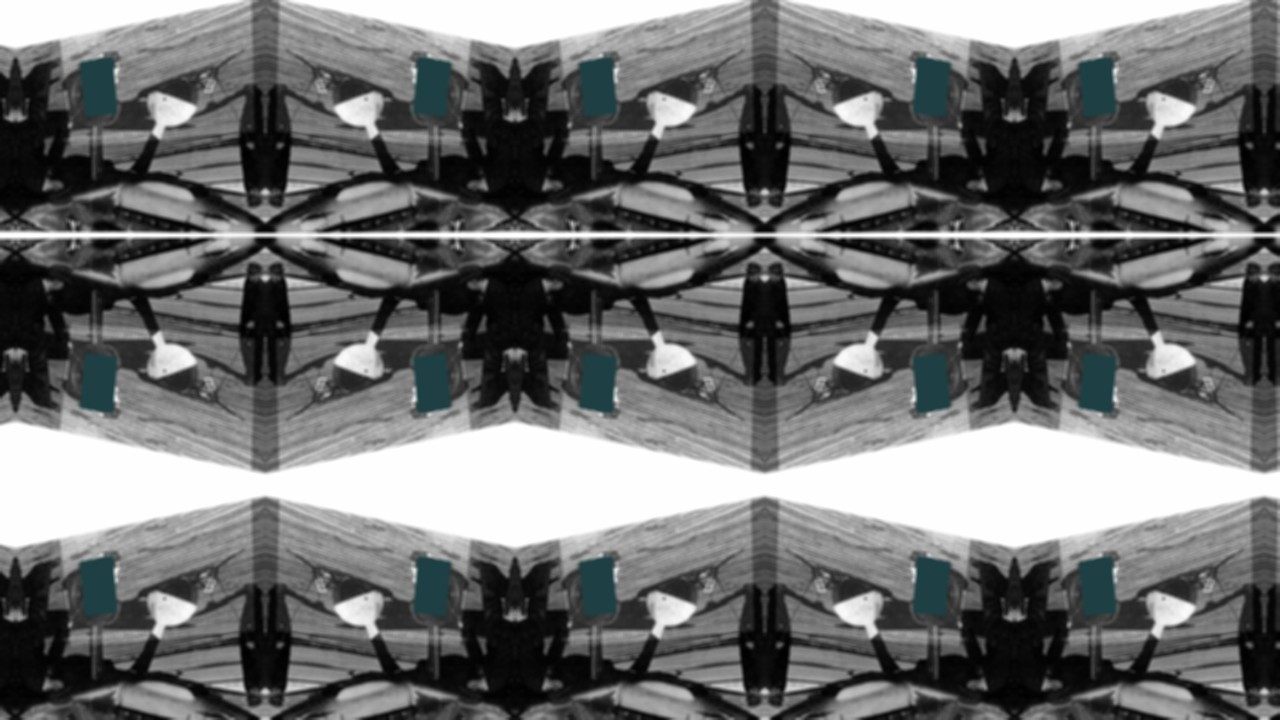chock: (76, 47, 122, 90), (408, 47, 454, 90), (576, 47, 622, 90), (908, 47, 954, 90), (1076, 47, 1122, 90), (76, 380, 122, 423), (408, 380, 454, 423), (576, 380, 622, 423), (908, 380, 954, 423), (1076, 380, 1122, 423), (76, 547, 122, 590), (408, 547, 454, 590), (576, 547, 622, 590), (908, 547, 954, 590), (1076, 547, 1122, 590), (180, 62, 223, 99), (307, 62, 350, 99), (680, 62, 723, 99), (807, 62, 850, 99), (1180, 62, 1223, 99), (180, 371, 223, 408), (307, 371, 350, 408), (680, 371, 723, 408), (807, 371, 850, 408), (1180, 371, 1223, 408), (180, 562, 223, 599), (307, 562, 350, 599), (680, 562, 723, 599), (807, 562, 850, 599), (1180, 562, 1223, 599)
wheel: (61, 62, 124, 130), (406, 62, 469, 130), (561, 62, 624, 130), (906, 62, 969, 130), (1061, 62, 1124, 130), (61, 340, 124, 408), (406, 340, 469, 408), (561, 340, 624, 408), (906, 340, 969, 408), (1061, 340, 1124, 408), (61, 562, 124, 630), (406, 562, 469, 630), (561, 562, 624, 630), (906, 562, 969, 630), (1061, 562, 1124, 630), (145, 75, 204, 132), (326, 75, 385, 132), (645, 75, 704, 132), (826, 75, 885, 132), (1145, 75, 1204, 132), (145, 338, 204, 395), (326, 338, 385, 395), (645, 338, 704, 395), (826, 338, 885, 395), (1145, 338, 1204, 395), (145, 575, 204, 632), (326, 575, 385, 632), (645, 575, 704, 632), (826, 575, 885, 632), (1145, 575, 1204, 632)
